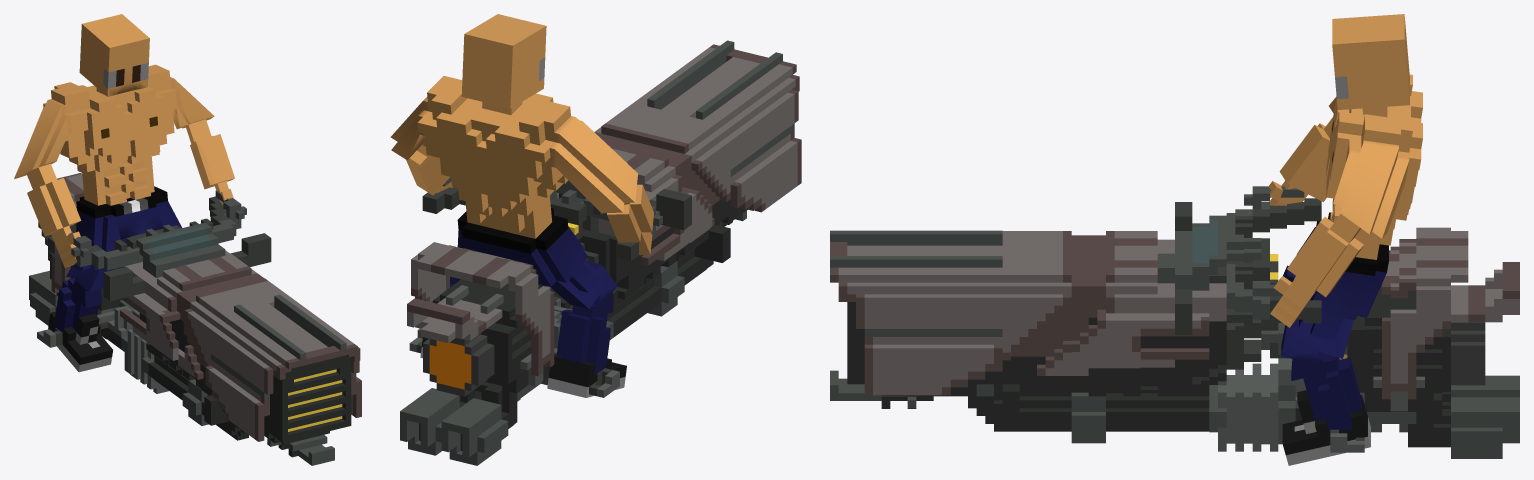
File: OnTracer.obj
3 renders of one model, left to right at view 1: azimuth 30°, elevation 25°; view 2: azimuth 150°, elevation 25°; view 3: azimuth 270°, elevation 25°, orthographic. The views are drawn at different scales.
Size of the model in its own units: 4.95 by 7.54 by 11.41.
Materials: 2 (2 with a texture image).
